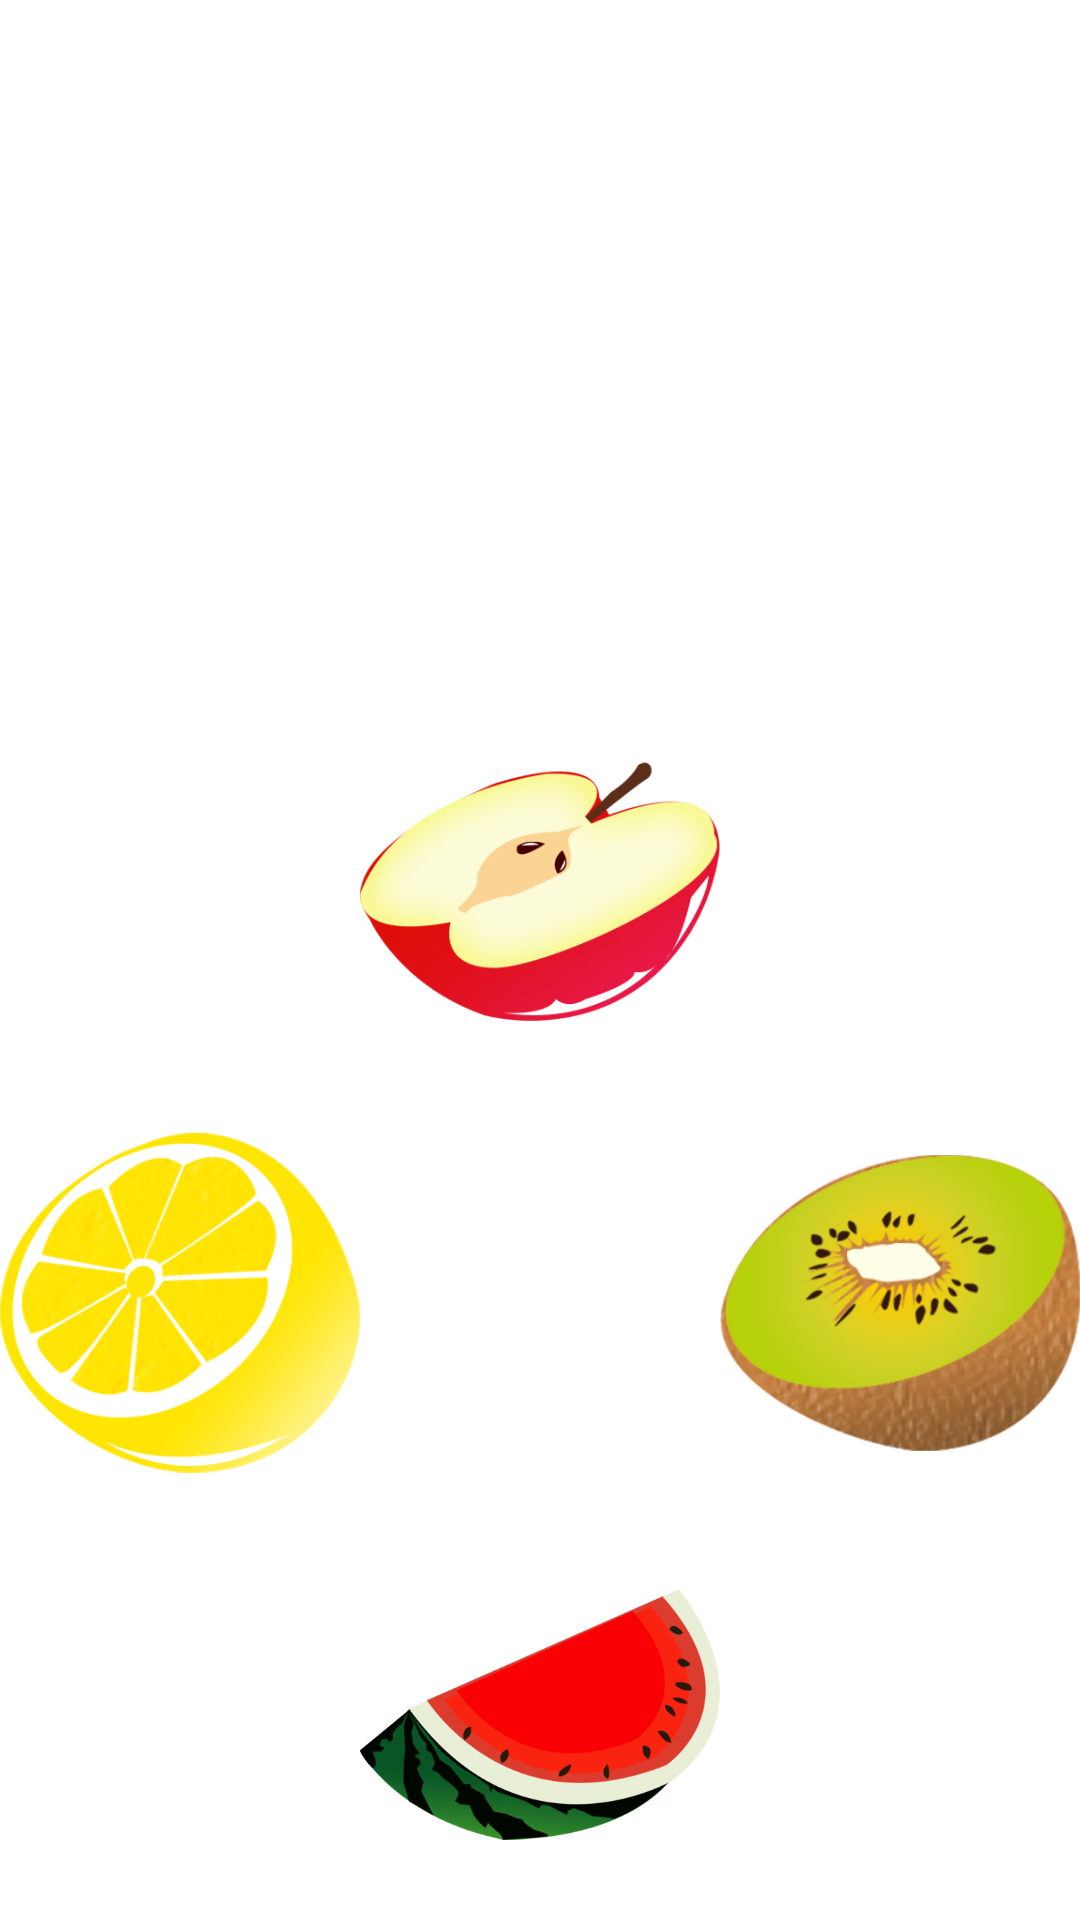

Screen size 1080 × 1920. Icon name, then its box in pixels as {"x1": x1, "y1": y1, "x2": x2, "y2": y2}:
apple: {"x1": 360, "y1": 762, "x2": 720, "y2": 1021}
kiwi: {"x1": 720, "y1": 1155, "x2": 1080, "y2": 1451}
lemon: {"x1": 0, "y1": 1133, "x2": 360, "y2": 1473}
watermelon: {"x1": 360, "y1": 1589, "x2": 720, "y2": 1840}
